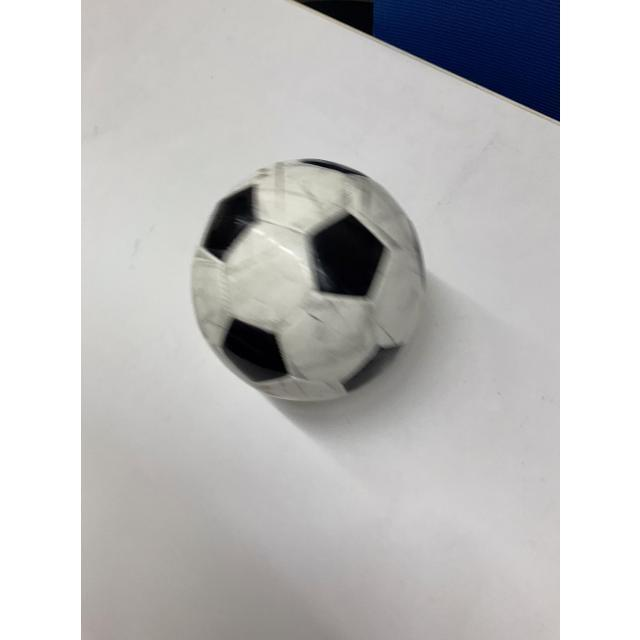Sports-Ball: (192, 158, 426, 402)
